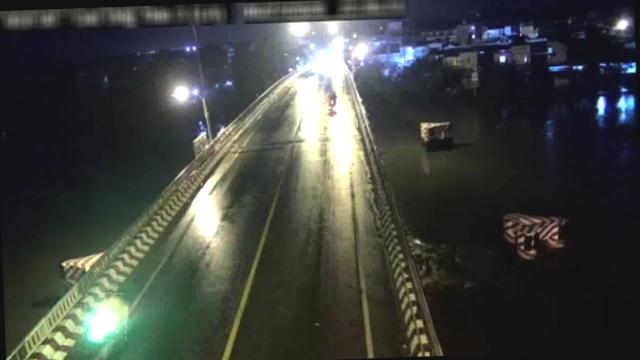Bike: (83, 292, 128, 341), (325, 91, 340, 112)
